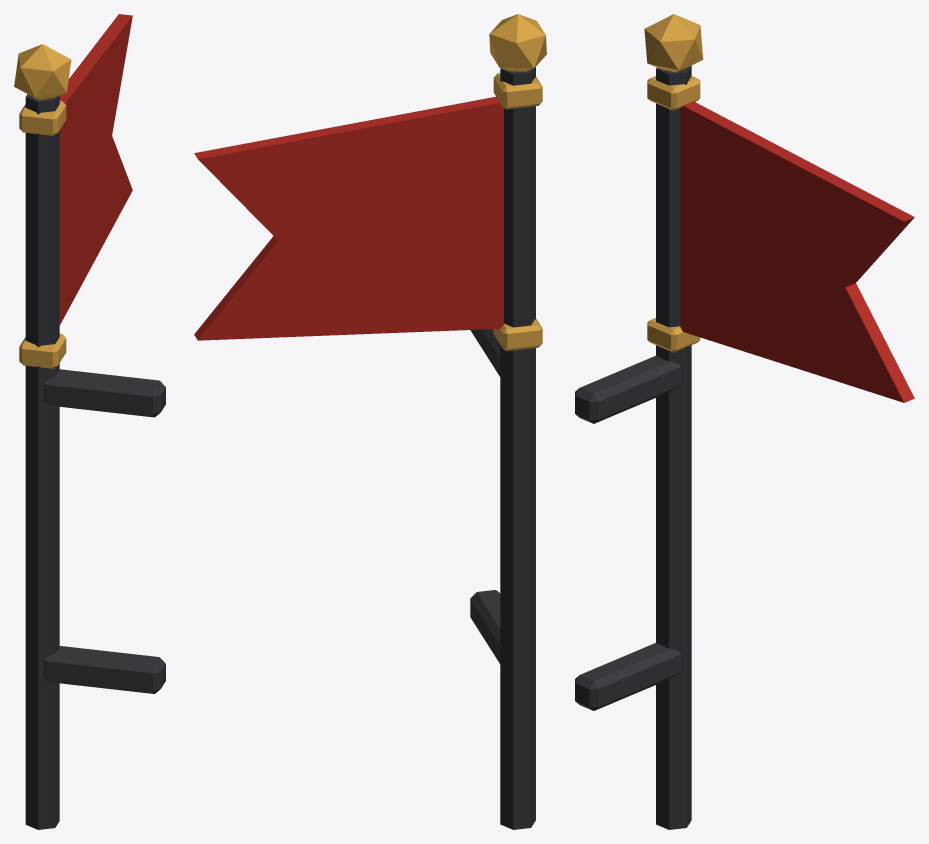
File: GunKit7.obj
3 renders of one model, left to right at view 1: azimuth 30°, elevation 25°; view 2: azimuth 150°, elevation 25°; view 3: azimuth 270°, elevation 25°, orthographic. The views are drawn at different scales.
Parts seen in each view (by area): view 1: GunKit7; view 2: GunKit7; view 3: GunKit7.
Boxes of the visible parts, x1,y1,x2,y2 form: GunKit7: (14, 14, 165, 829); GunKit7: (194, 14, 546, 829); GunKit7: (575, 14, 914, 829).
Size of the model in its own units: 0.3245 by 1.07 by 0.4077.
